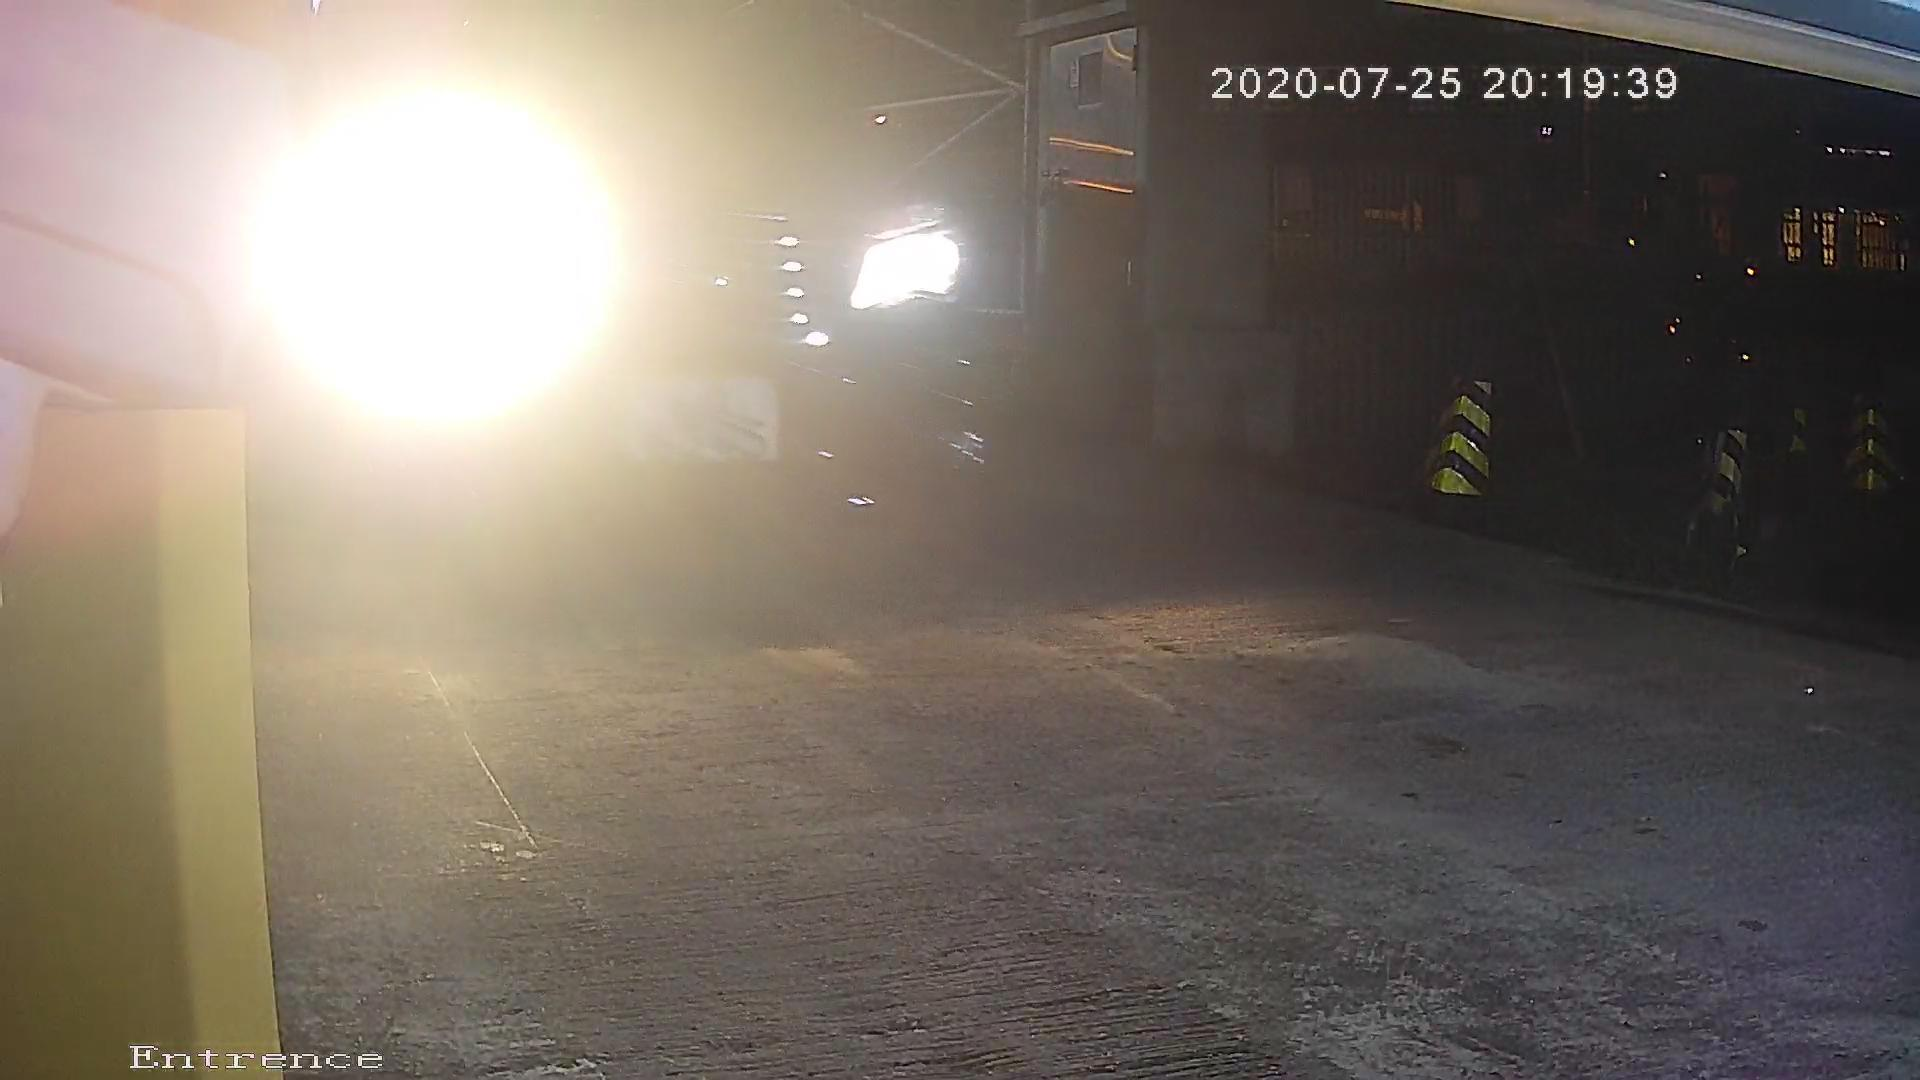privatecar: (181, 54, 1038, 597)
